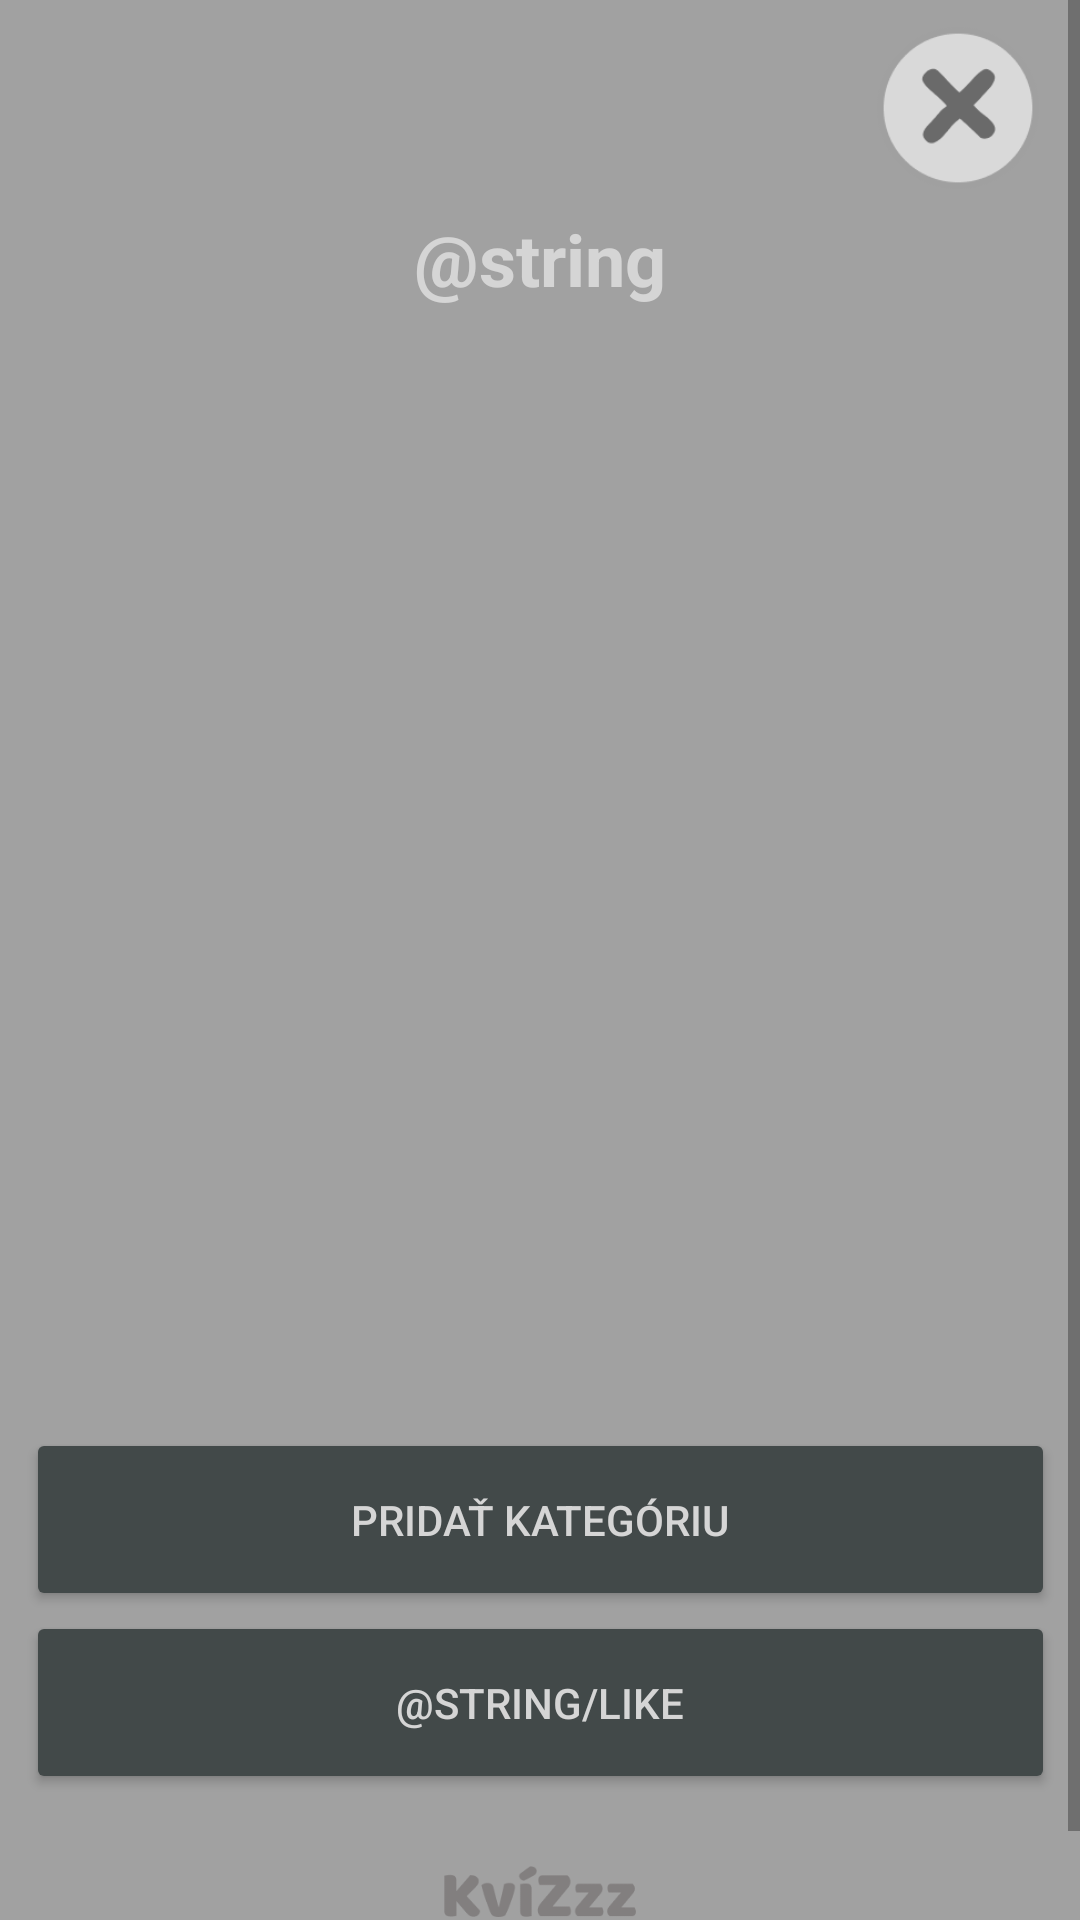

Locate icon controls on the screen. Image size 1080w x 1920h, boxes as {"left": x1, "top": y1, "right": x2, "bottom": y2}.
exit: {"left": 884, "top": 34, "right": 1032, "bottom": 182}
